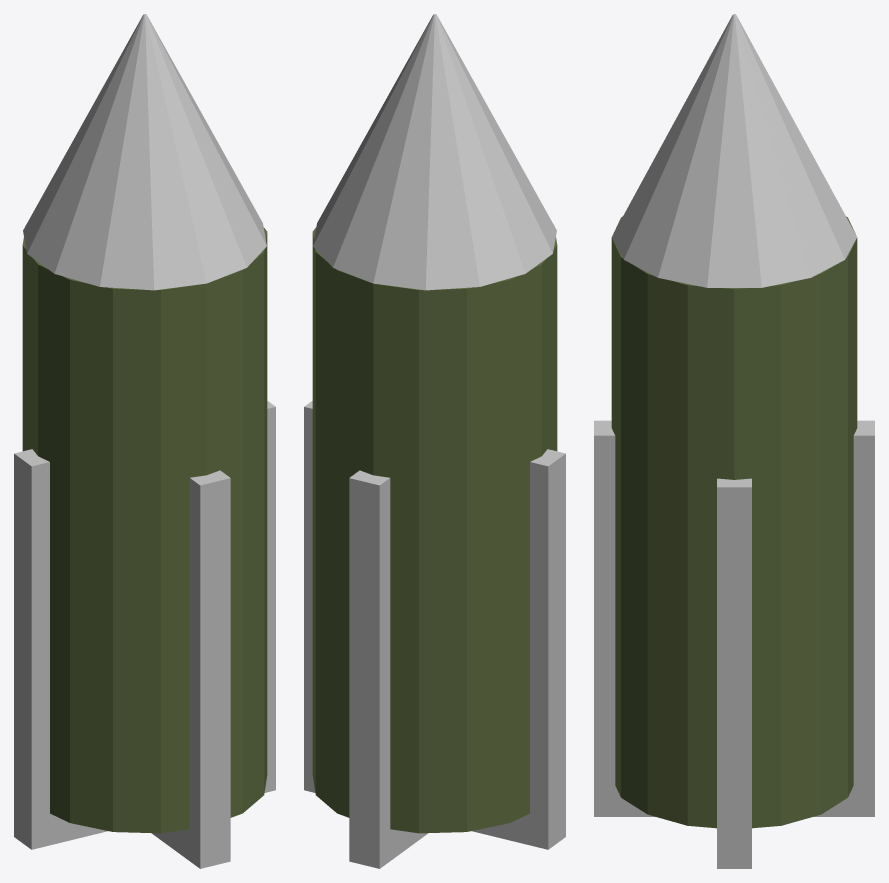
The model's file is he_bomb.obj.
3 renders of one model, left to right at view 1: azimuth 30°, elevation 25°; view 2: azimuth 150°, elevation 25°; view 3: azimuth 270°, elevation 25°, orthographic.
Parts seen in each view (by area): view 1: he_bomb; view 2: he_bomb; view 3: he_bomb.
Part boxes in pixels (x1,y1,x2,y2): he_bomb: (14,14,275,868); he_bomb: (304,14,565,868); he_bomb: (594,14,874,868).
Size of the model in its own units: 0.16 by 0.5 by 0.16.
